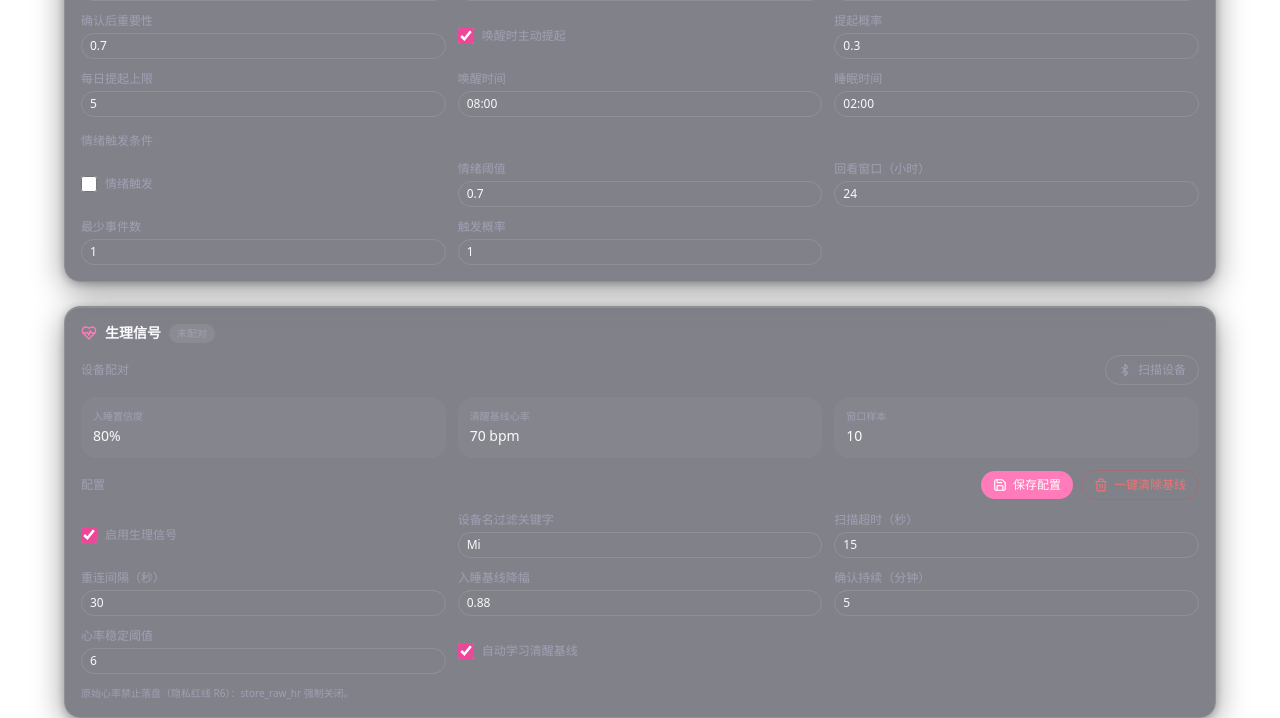
Scenario: DreamPage 生理信号区块 › 保存 physio 配置调 updateConfig 后刷新状态
(page scrolled)
Click the button "保存配置": (1027, 485) [981,471,1073,499]
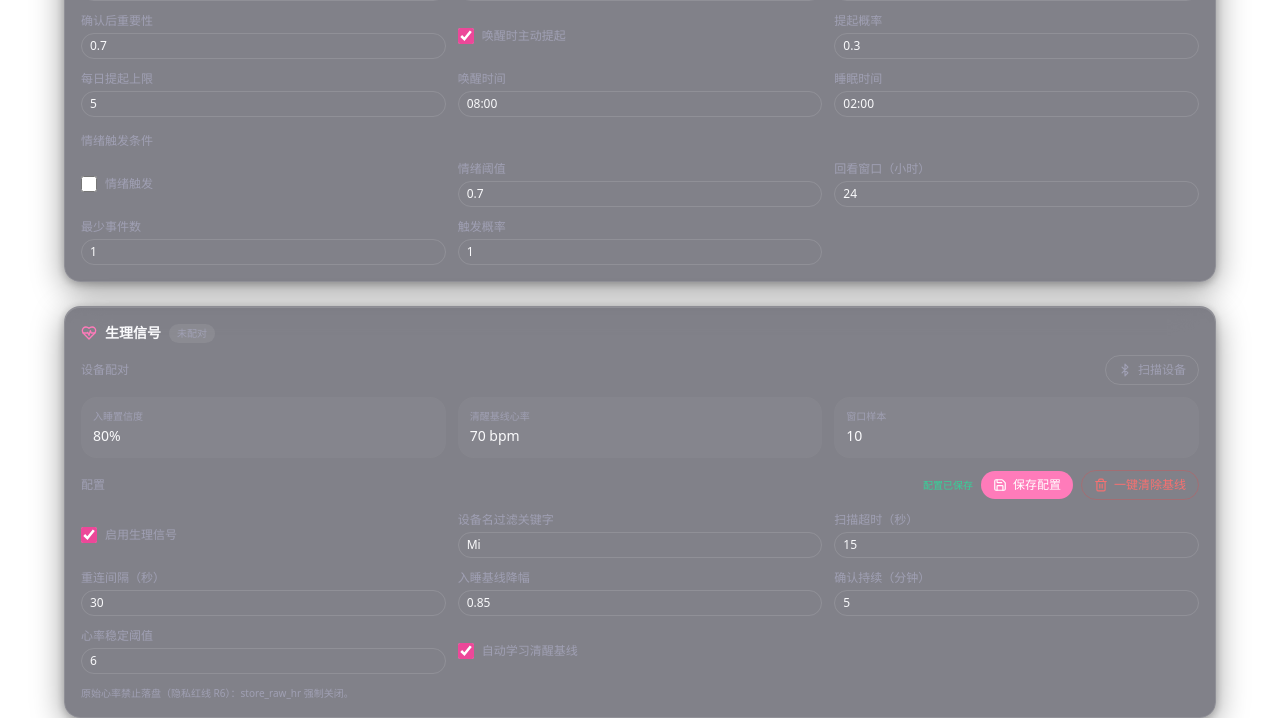
Check: the text "配置已保存" is shown, box [923,478,973,492]
